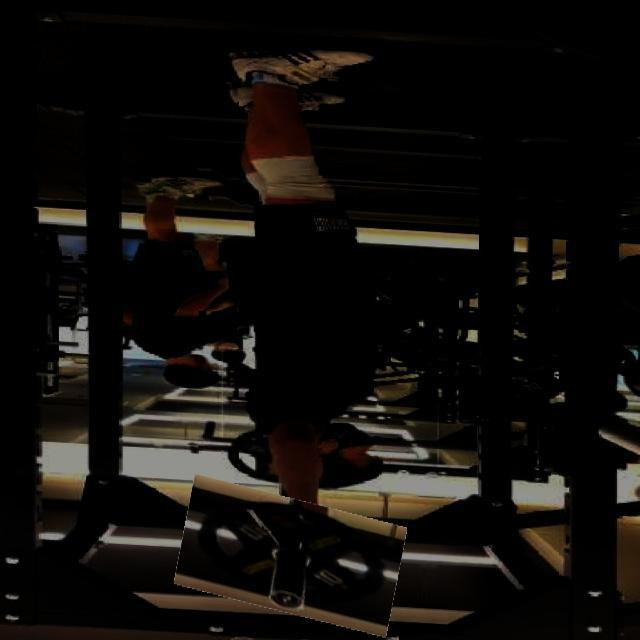barbell: (179, 482, 403, 624)
